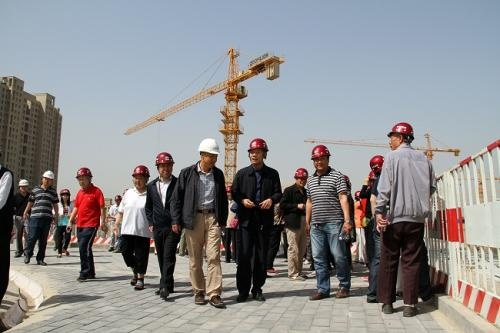red: (386, 121, 416, 152), (245, 136, 270, 166), (152, 150, 175, 179), (310, 143, 332, 172), (130, 164, 151, 190), (75, 166, 94, 189), (293, 166, 309, 189), (57, 187, 72, 203)
white: (195, 136, 220, 170), (40, 168, 54, 188), (16, 176, 30, 194)
